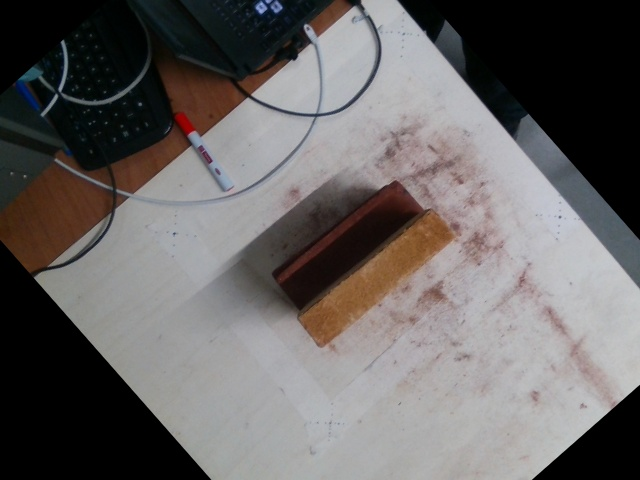brick-side: (297, 210, 453, 348)
